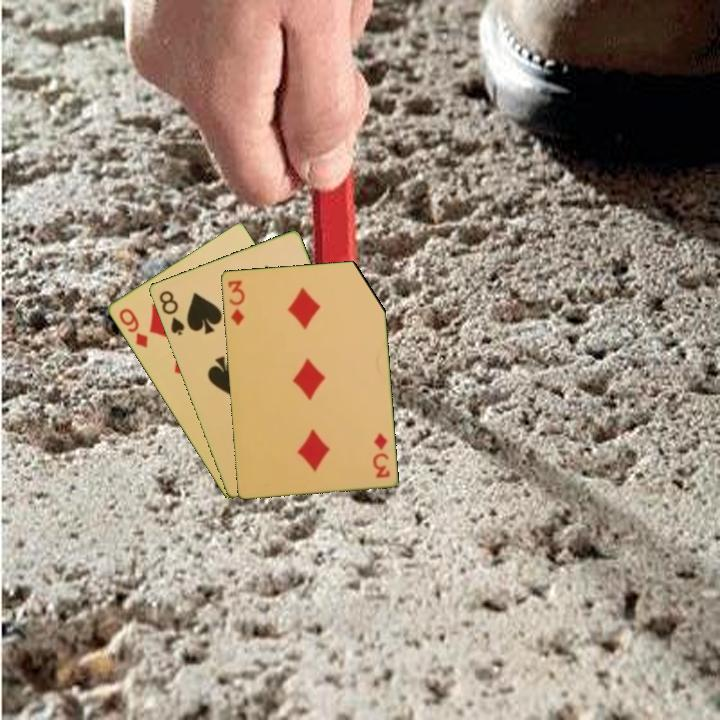3d: (224, 276, 247, 328), (370, 429, 392, 481)
8s: (155, 287, 187, 338)
9d: (115, 304, 151, 351)
